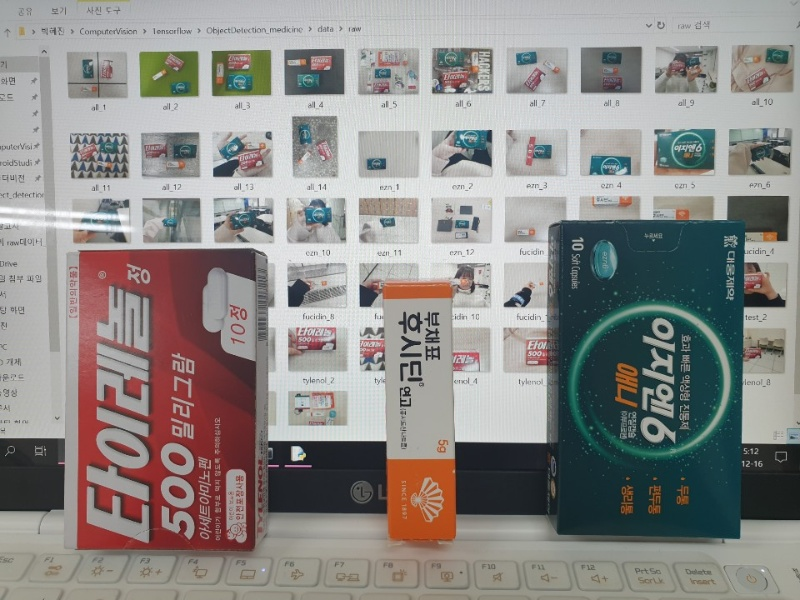ezn: (547, 221, 743, 540)
fucidin: (382, 283, 456, 543)
tylenol: (65, 249, 268, 551)
